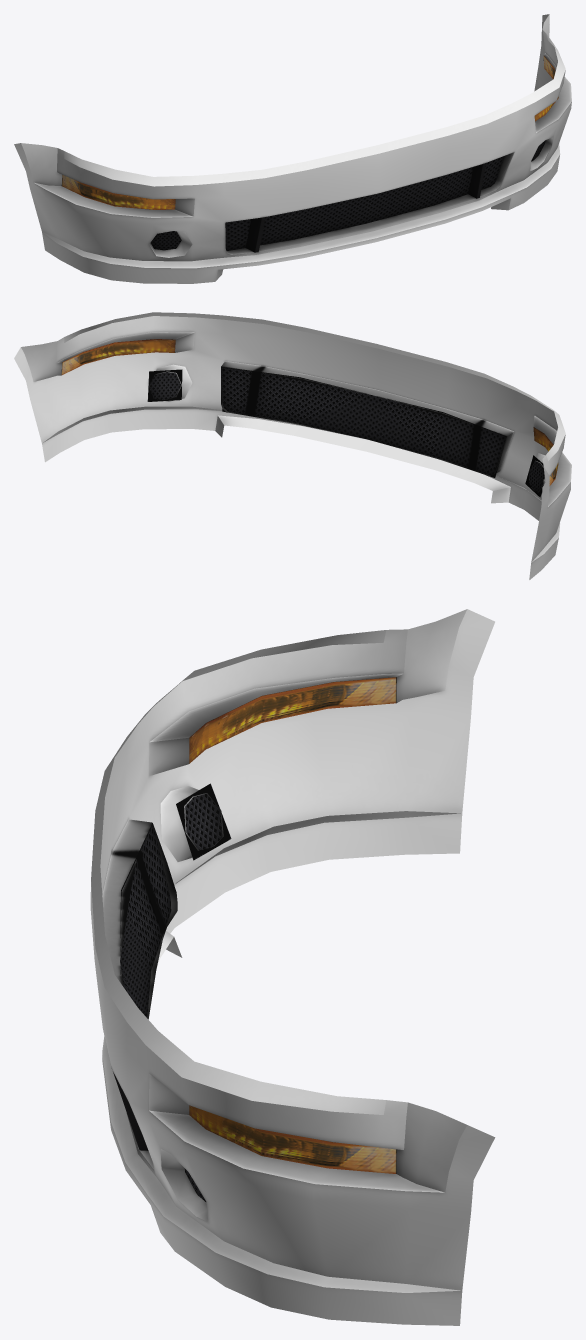
The model's file is Sport_03_Bumper_F_3.fbx.
3 renders of one model, top to bottom at view 1: azimuth 30°, elevation 25°; view 2: azimuth 150°, elevation 25°; view 3: azimuth 270°, elevation 25°, orthographic. The views are drawn at different scales.
Parts seen in each view (by area): view 1: Sport_03_Bumper_F_3; view 2: Sport_03_Bumper_F_3; view 3: Sport_03_Bumper_F_3.
Part boxes in pixels (x1,y1,x2,y2): Sport_03_Bumper_F_3: (14, 14, 571, 283); Sport_03_Bumper_F_3: (14, 312, 571, 579); Sport_03_Bumper_F_3: (90, 609, 495, 1325).
Size of the model in its own units: 198 by 40.18 by 65.58.
